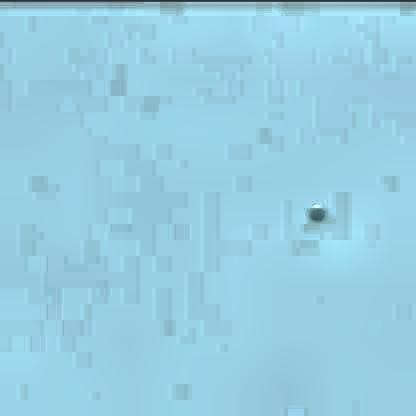golfball: (304, 199, 323, 221)
